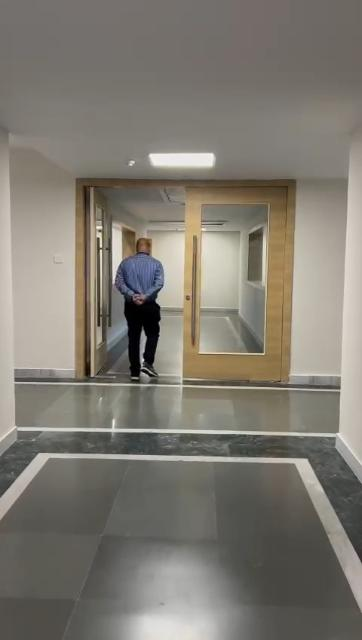door: (178, 184, 284, 383)
floor: (0, 385, 362, 640)
moving-obj: (117, 253, 180, 379)
wall: (0, 136, 70, 374), (302, 162, 362, 388)
